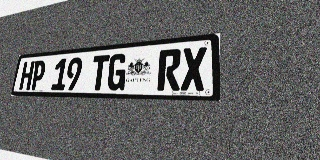1: (51, 58, 69, 90)
9: (64, 57, 83, 90)
G: (106, 53, 128, 90)
H: (19, 61, 35, 90)
P: (30, 60, 46, 90)
R: (157, 48, 182, 91)
T: (89, 55, 110, 90)
X: (181, 46, 207, 91)
